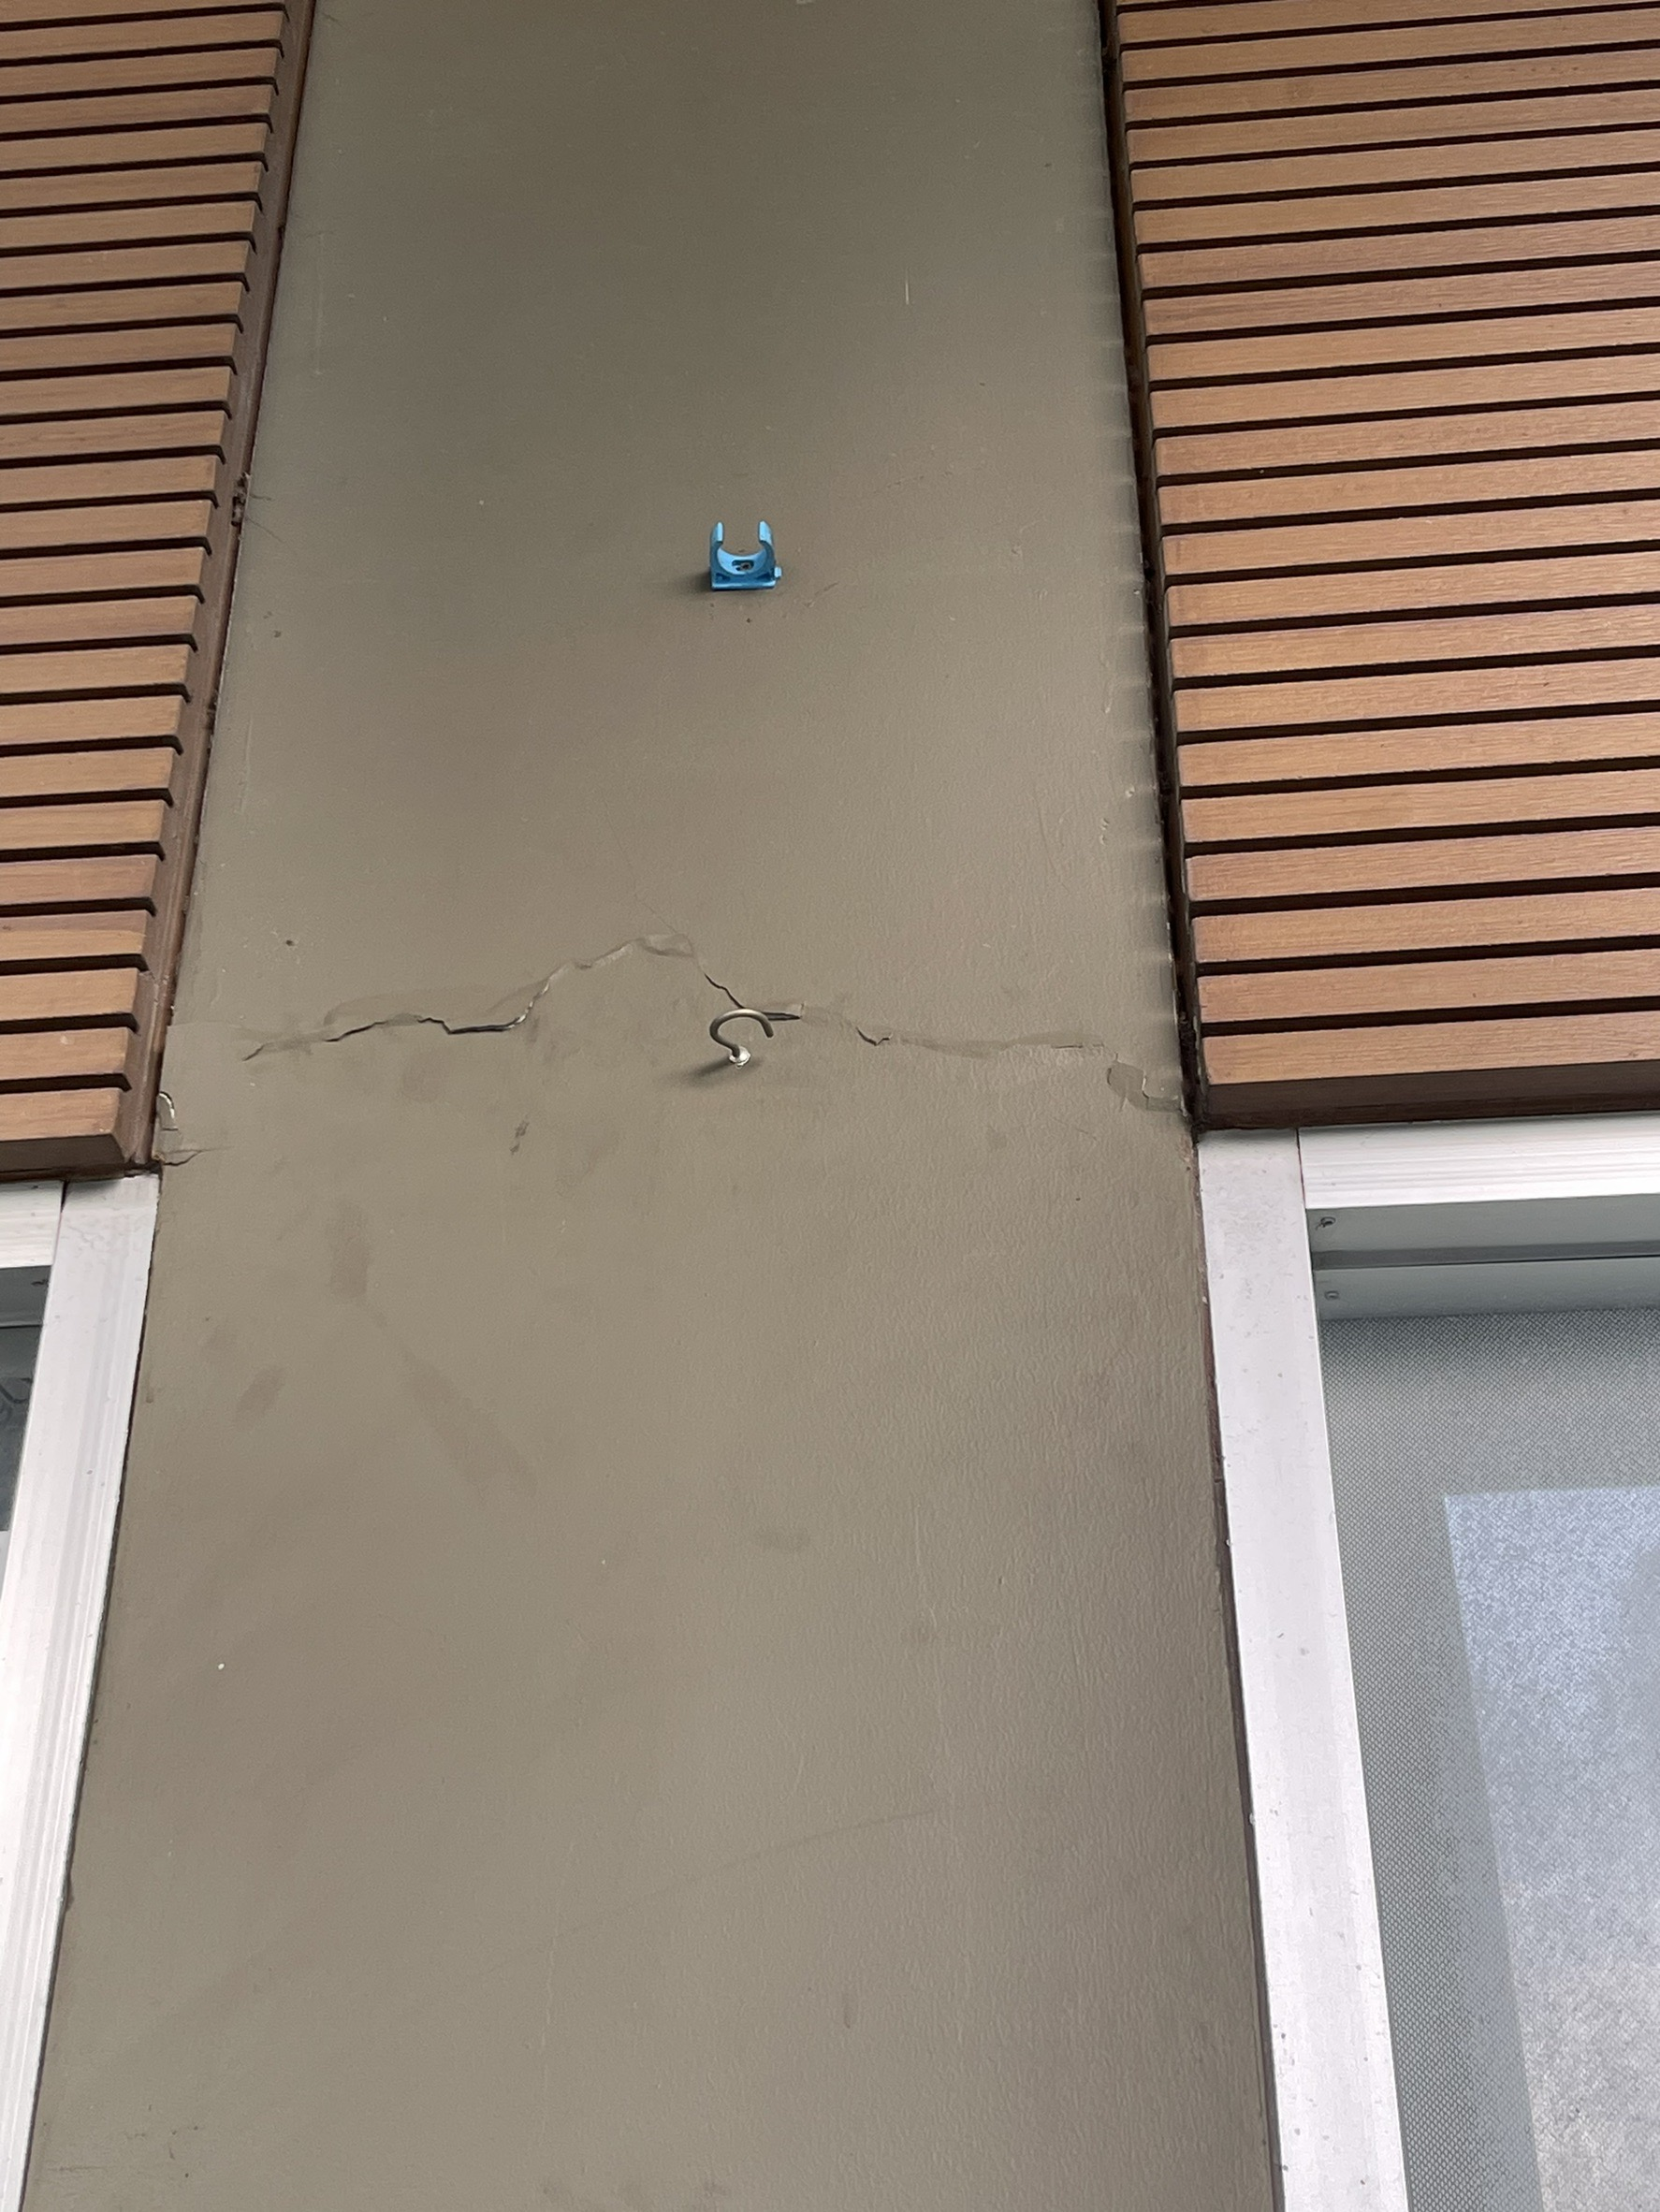Medium: (225, 892, 1163, 1227)
